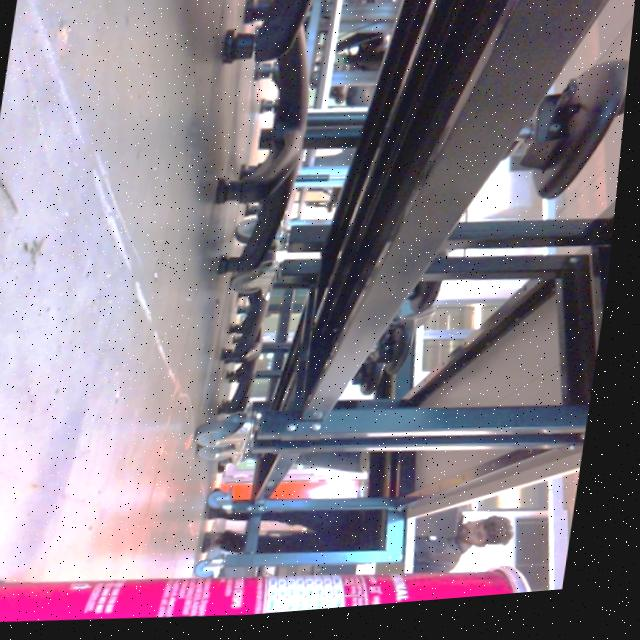redpringles: (0, 533, 572, 640)
